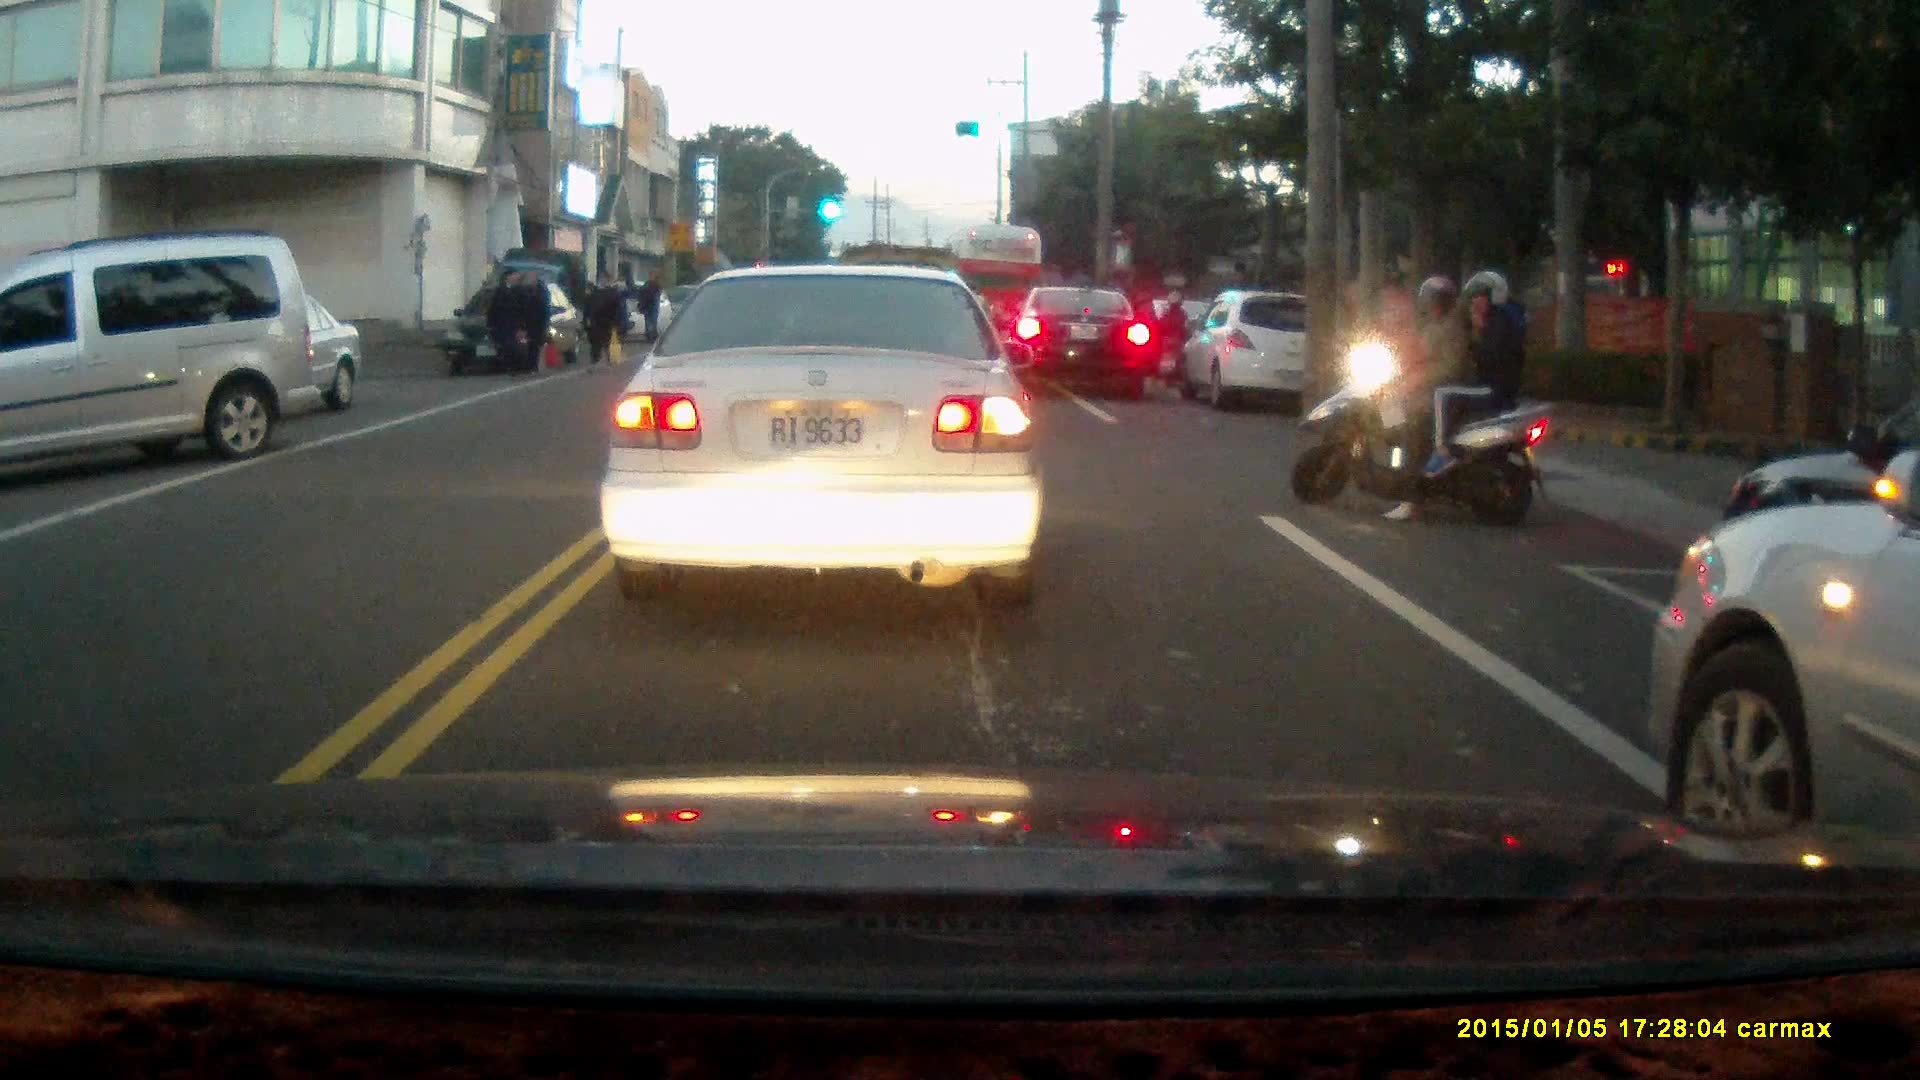pedestrian: (488, 263, 530, 381), (579, 266, 617, 369), (514, 263, 549, 376), (605, 268, 631, 346), (641, 271, 668, 342)
rider: (1283, 266, 1555, 533), (1154, 285, 1193, 389)
vehicle: (597, 259, 1045, 610), (1649, 438, 1920, 848), (1, 241, 317, 480), (1187, 290, 1339, 407), (1008, 287, 1153, 401), (442, 280, 583, 379)
